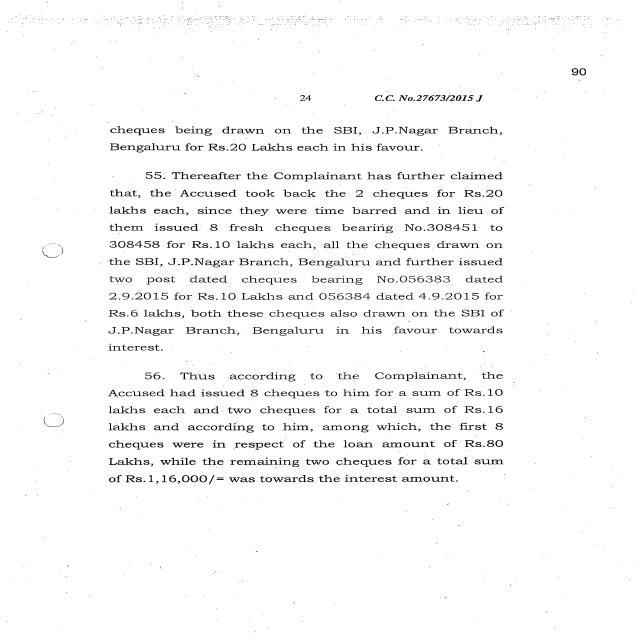page-number: (504, 33, 640, 136)
